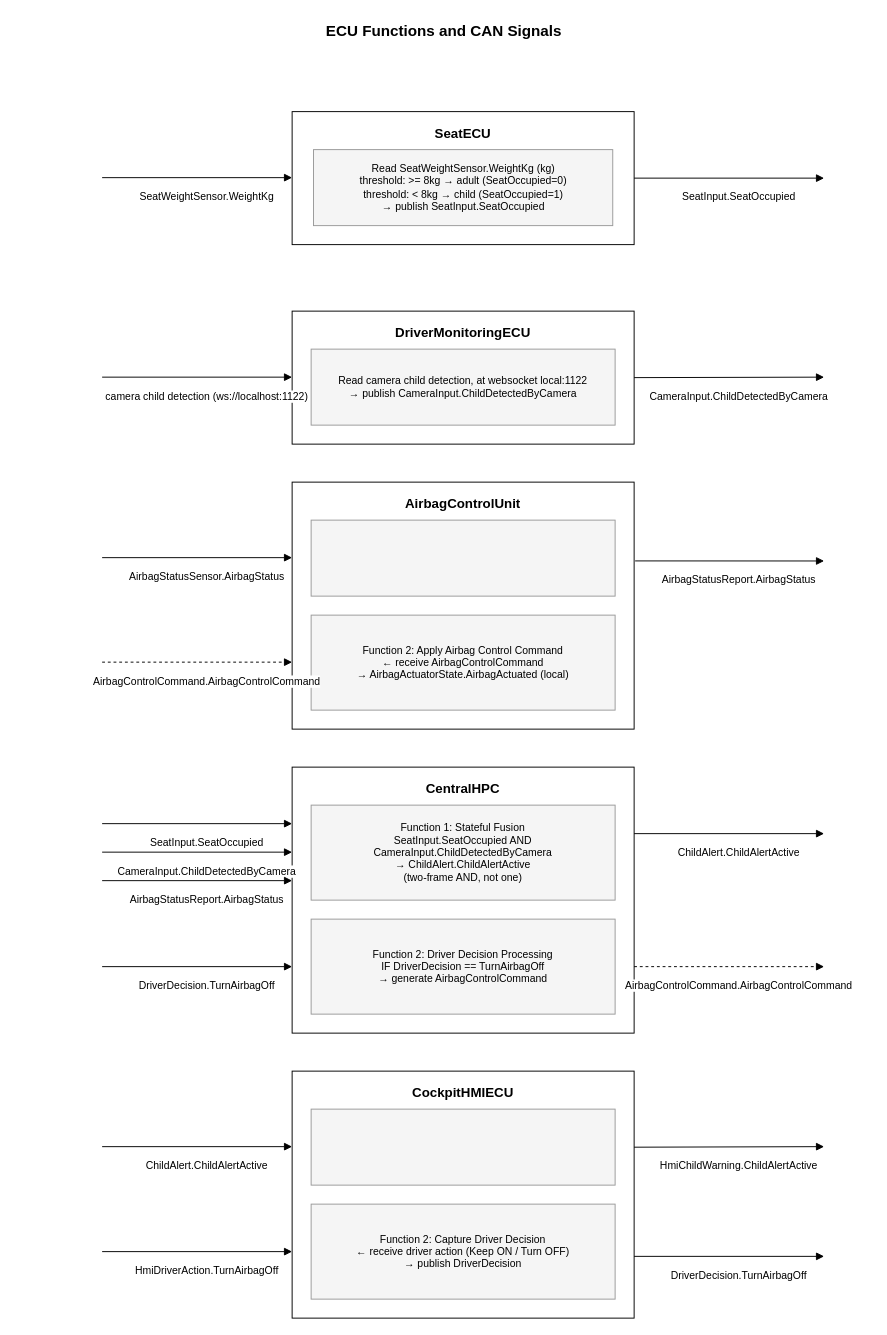
The diagram is 887 pixels wide and 1335 high, and some of its shapes have lost their labels. The centre of each missing label's shape, as x and y in pixels:
Function 1: Display Child Warning ← receive ChildAlert → show warning on HMI: point 462,1146
Function 1: Provide Airbag Status → publish AirbagStatus: point 462,557
